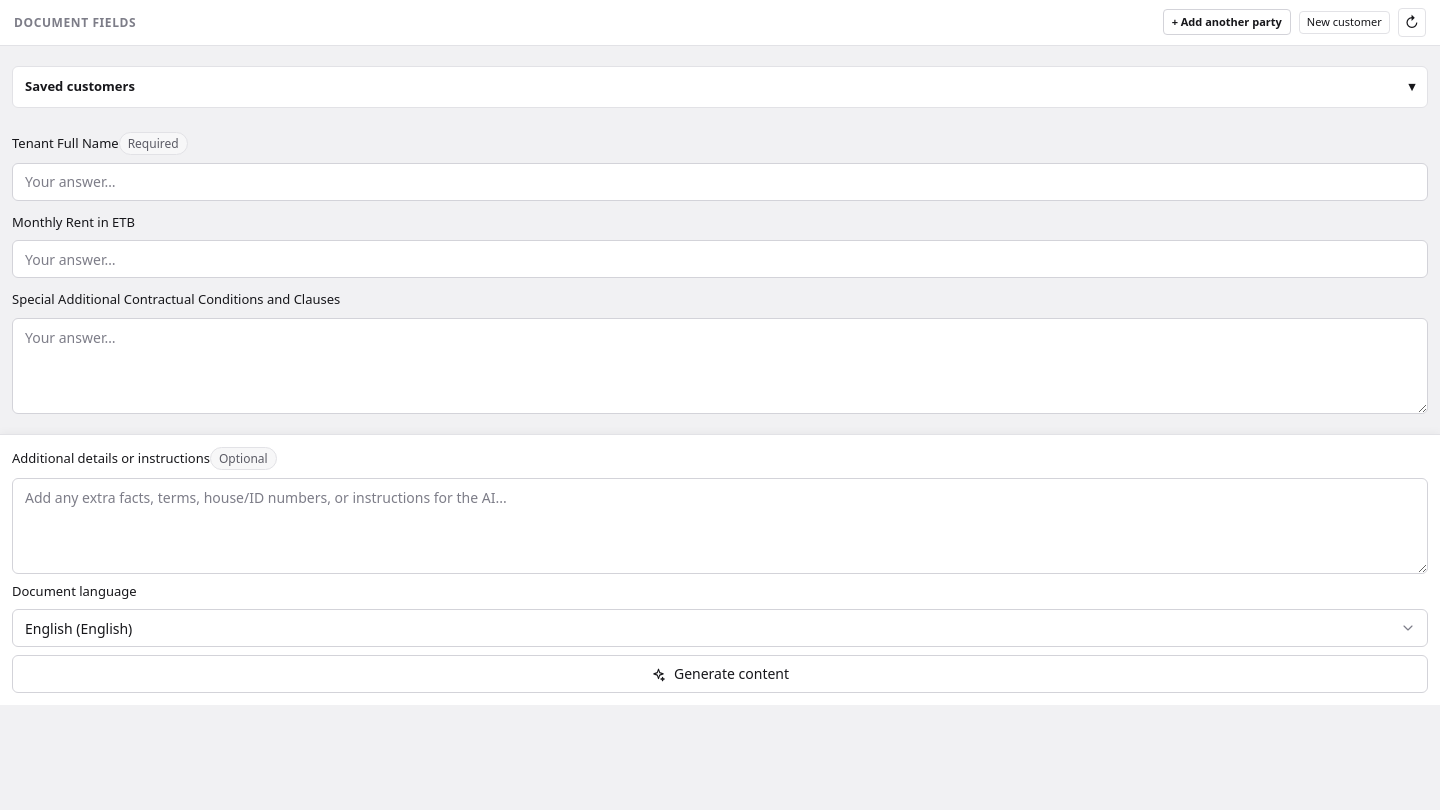
Test: Fill a field from a file (paperclip) › warns when the value could not be matched to the file, and says when nothing was found
Focus the field labelled "Monthly Rent in ETB" at (720, 259), box 12,240 -> 1428,278
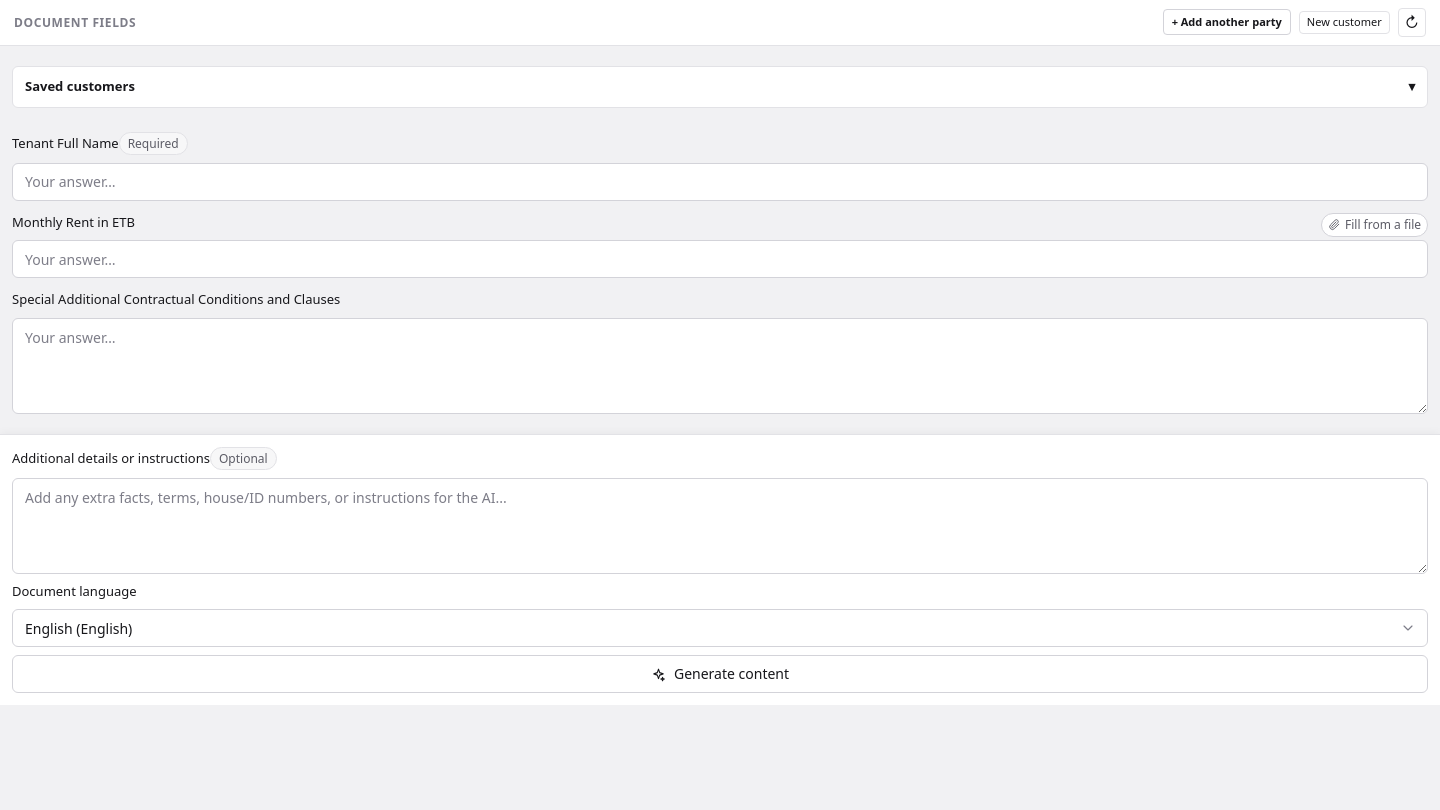
Click the button with test id "field-fill-trigger-rent_amount" at (1374, 225), box 1321,213 -> 1428,237
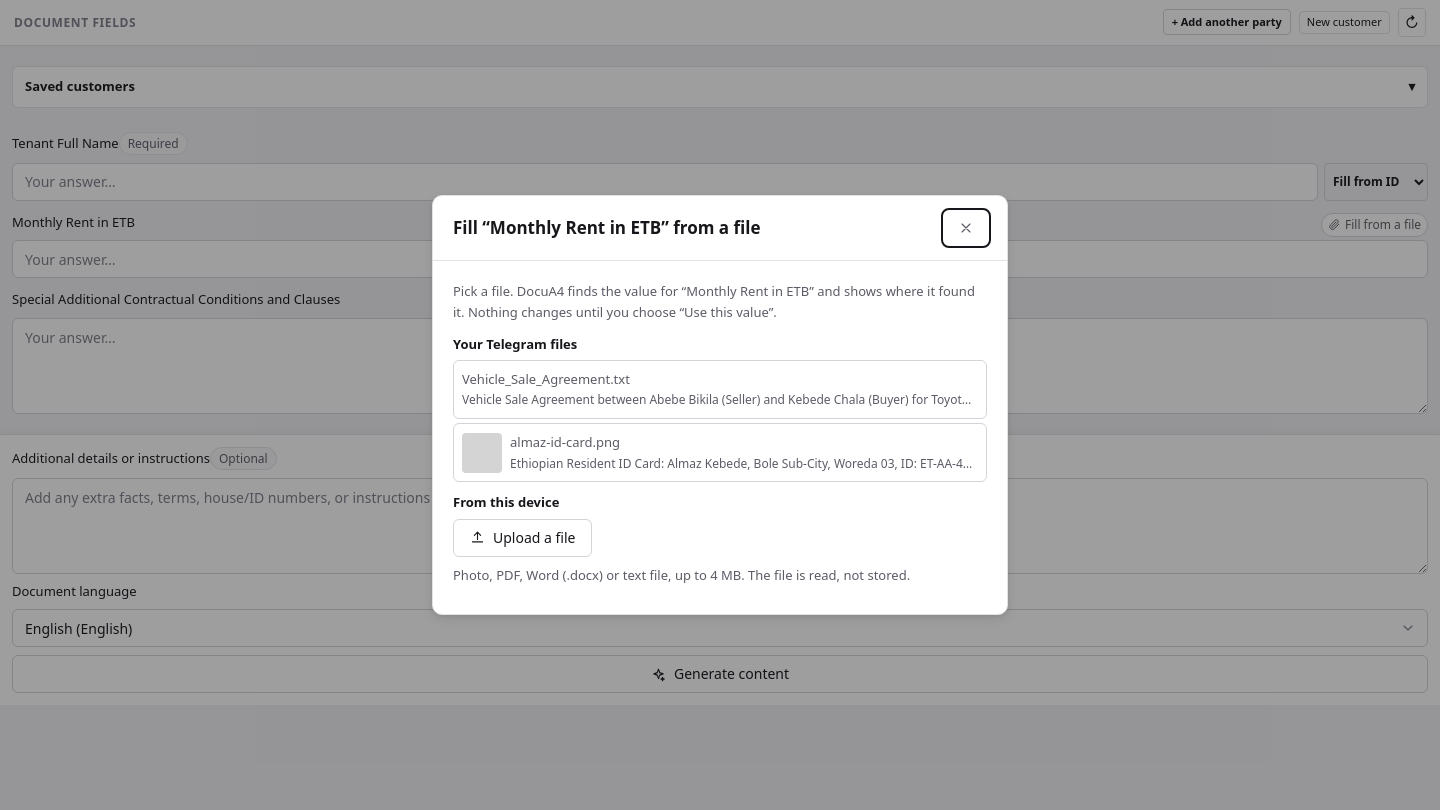
Click the button that starts with "Vehicle_Sale_Agreement.txt" at (720, 390), box 453,360 -> 987,419
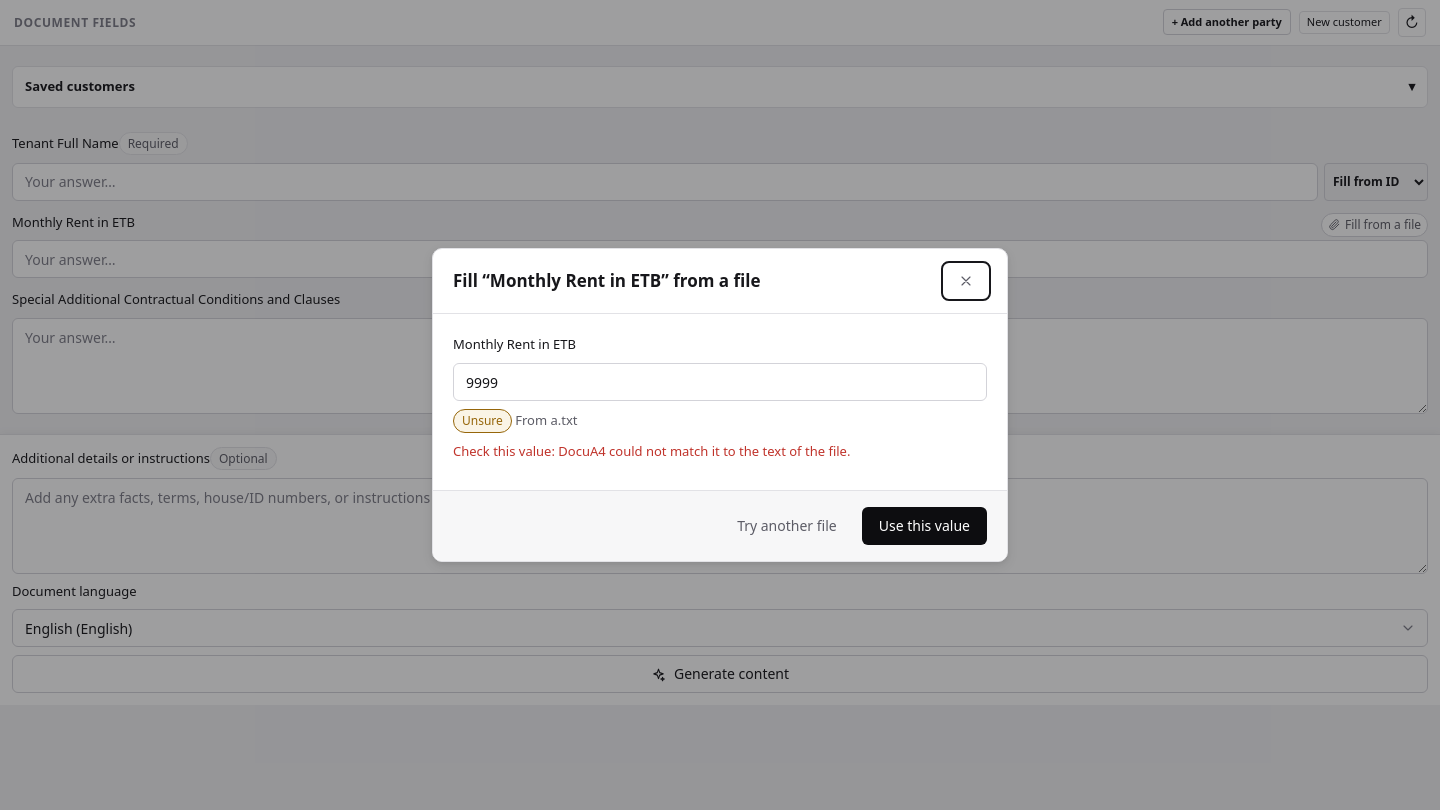
Check: the text "Check this value: DocuA4 could not match it to the text of the file." is shown, box 453,442 -> 850,460
Click the button "Try another file" at (787, 526), box 720,507 -> 854,545
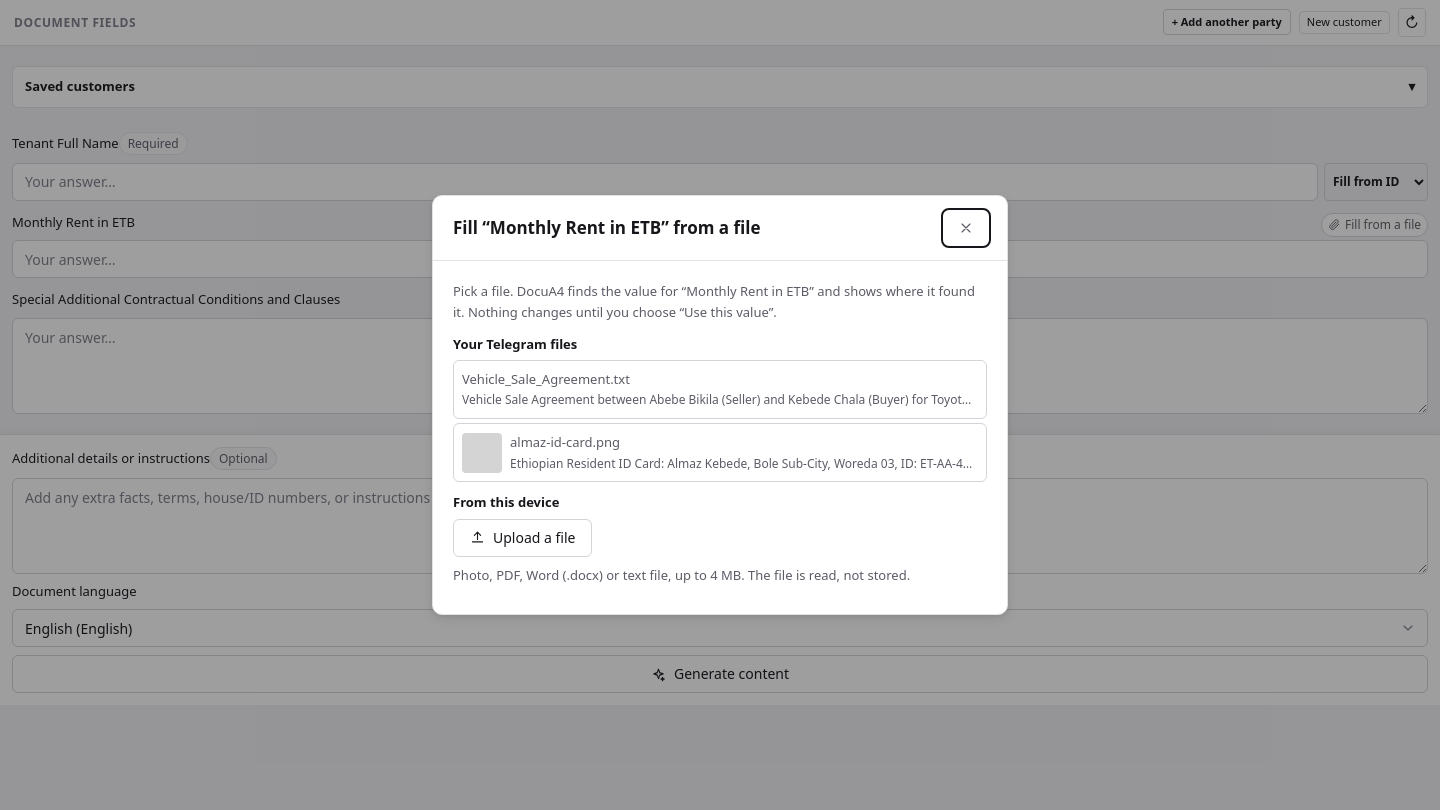
Click the button that starts with "Vehicle_Sale_Agreement.txt" at (720, 390), box 453,360 -> 987,419
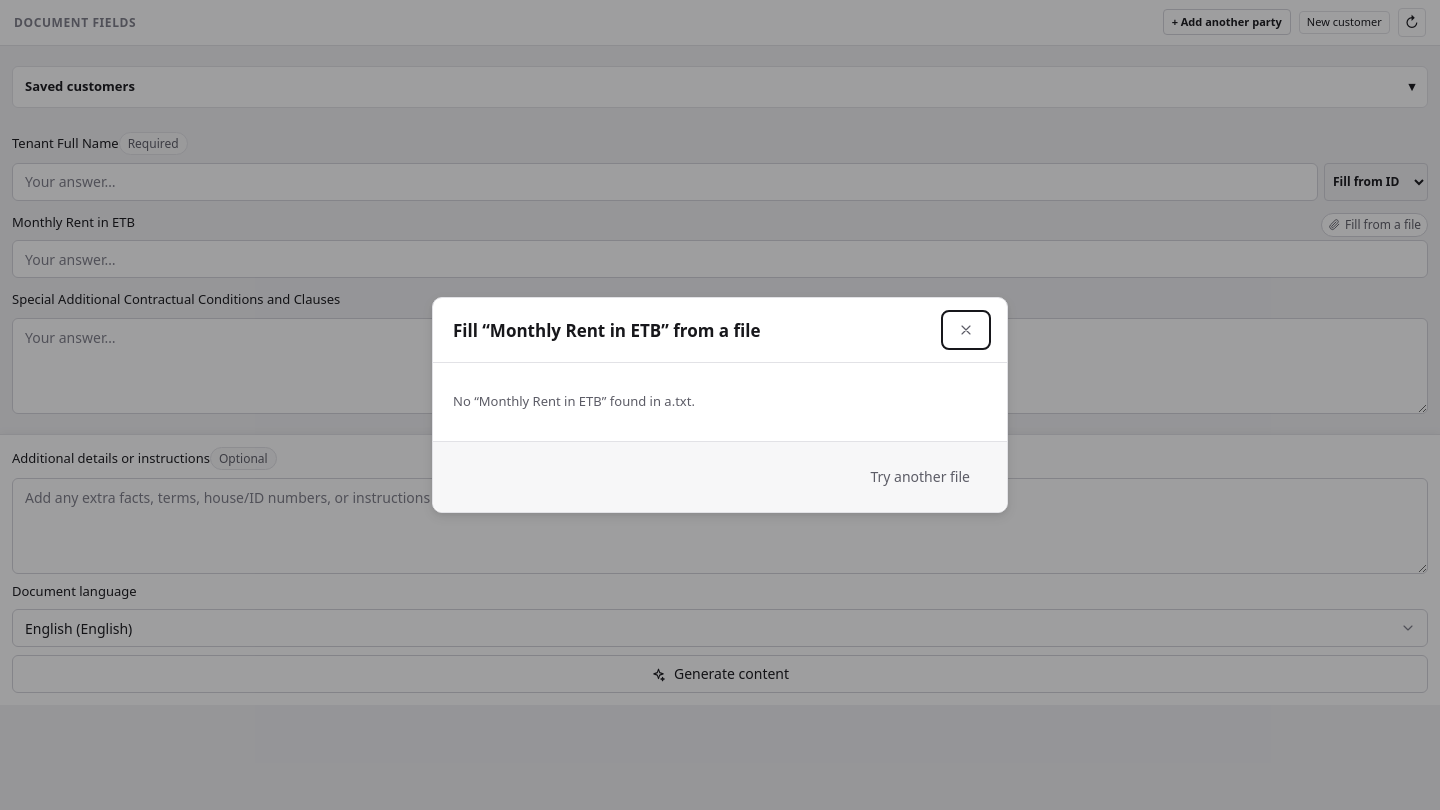
Check: the text "No “Monthly Rent in ETB” found in a.txt." is shown, box 453,392 -> 695,410
